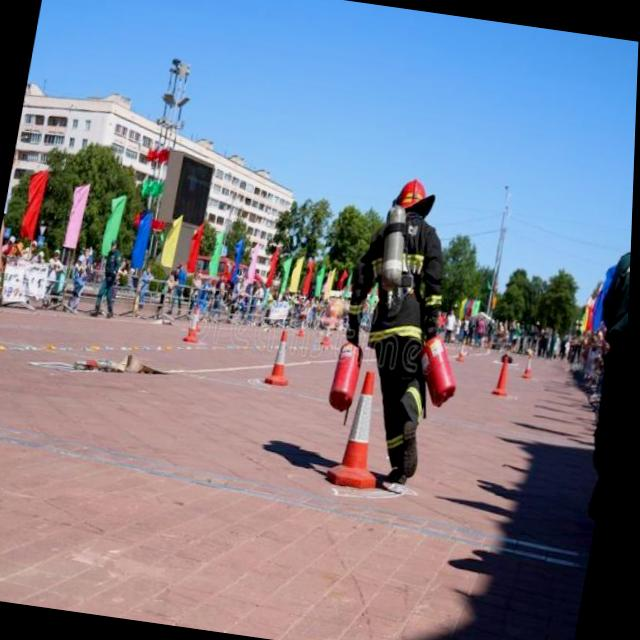FireExtinguisher: (407, 328, 468, 424), (322, 332, 376, 429)
